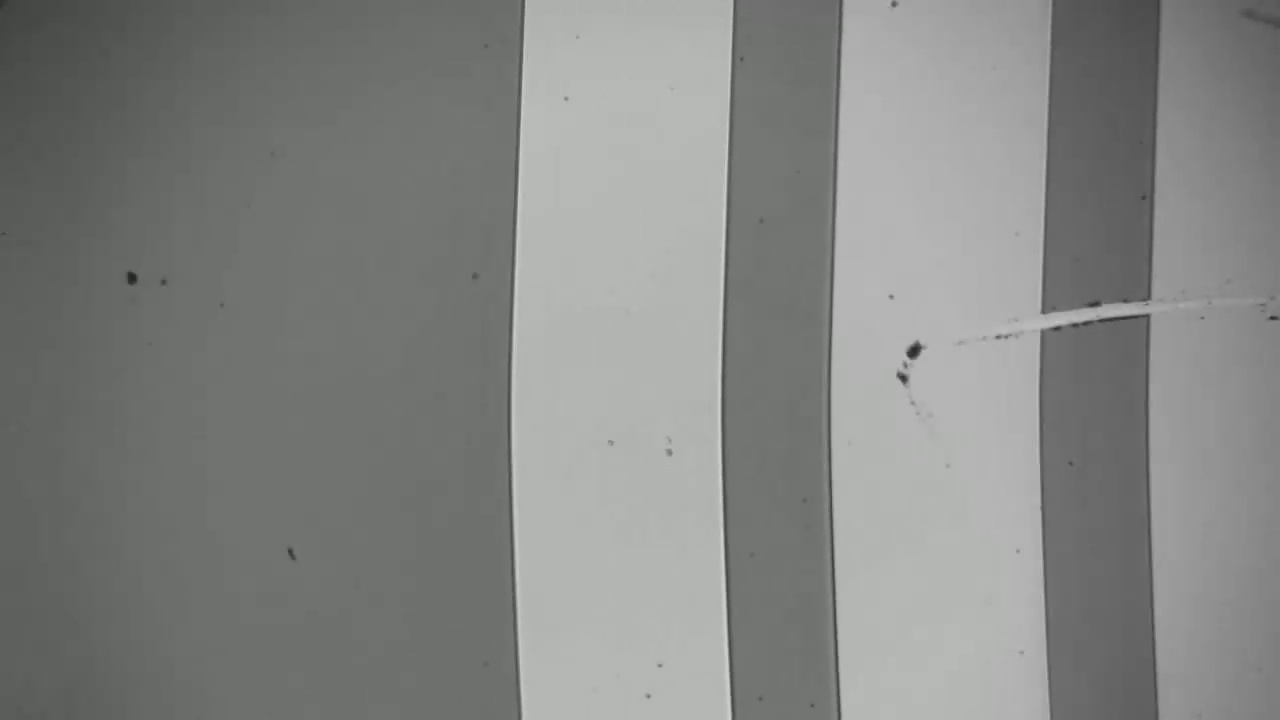Short_circuit: (1002, 273, 1198, 365)
